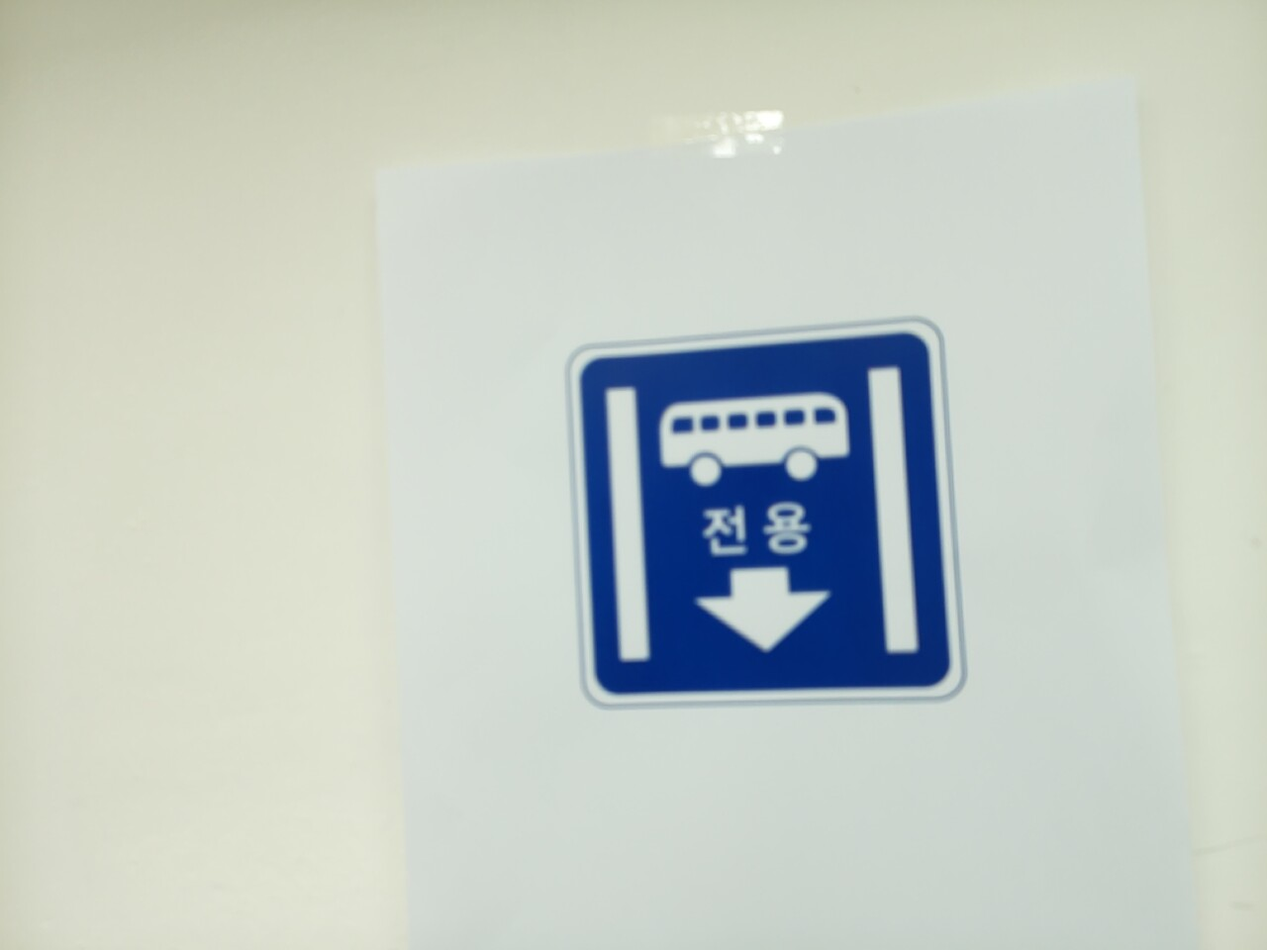bus_only_lane: (568, 322, 961, 706)
